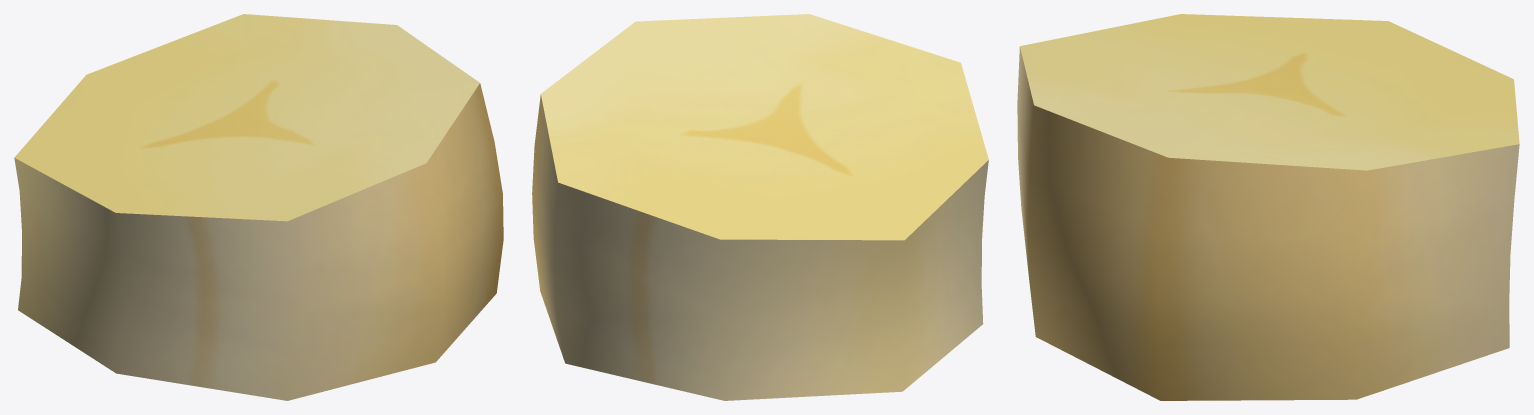
The picture shows the model from 3 angles, left to right: view 1: azimuth 30°, elevation 25°; view 2: azimuth 150°, elevation 25°; view 3: azimuth 270°, elevation 25°; orthographic projection. The views are drawn at different scales.
Parts seen in each view (by area): view 1: xj; view 2: xj; view 3: xj.
Boxes of the visible parts, x1,y1,x2,y2 form: xj: [14, 14, 503, 400]; xj: [532, 14, 988, 400]; xj: [1017, 14, 1519, 400].
Bounding box in the file's own units: 5.62 × 2.93 × 5.65.
1 material, 1 textured.
